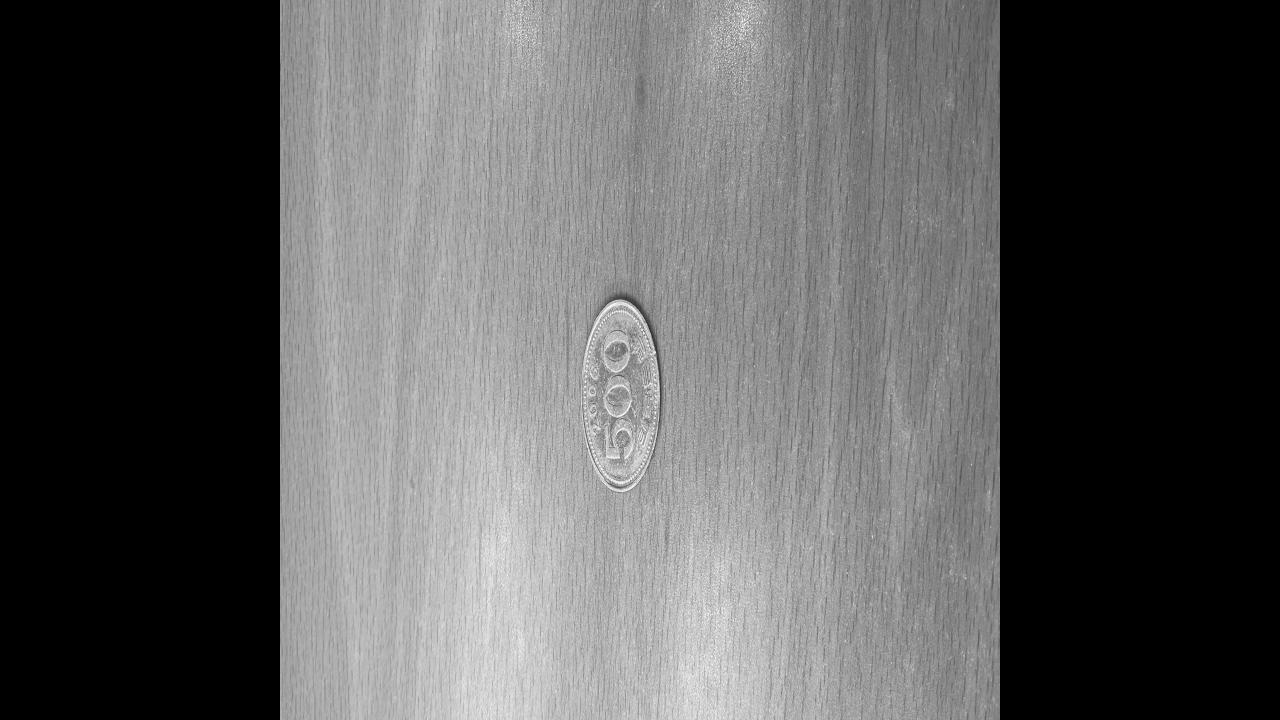coin: (578, 292, 662, 496)
